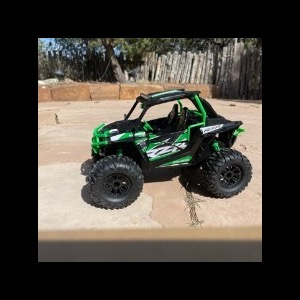polaris: (87, 88, 254, 212)
